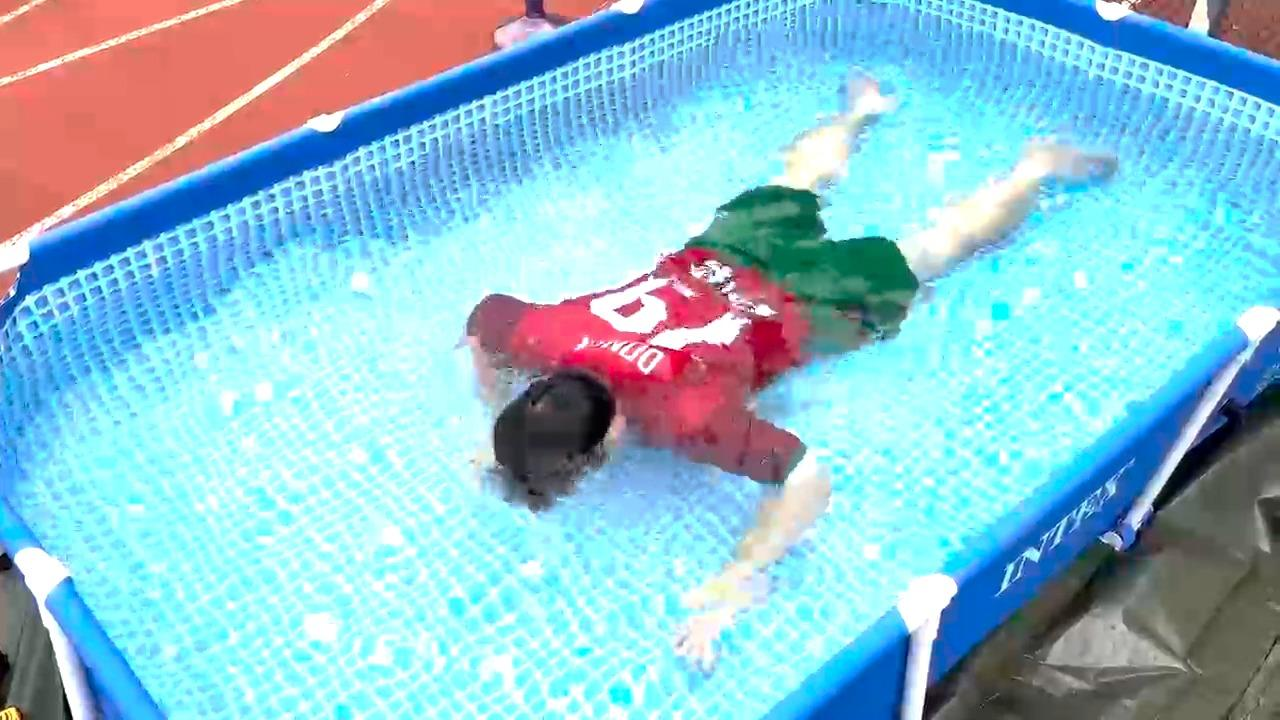Drowning: (430, 59, 1150, 642)
